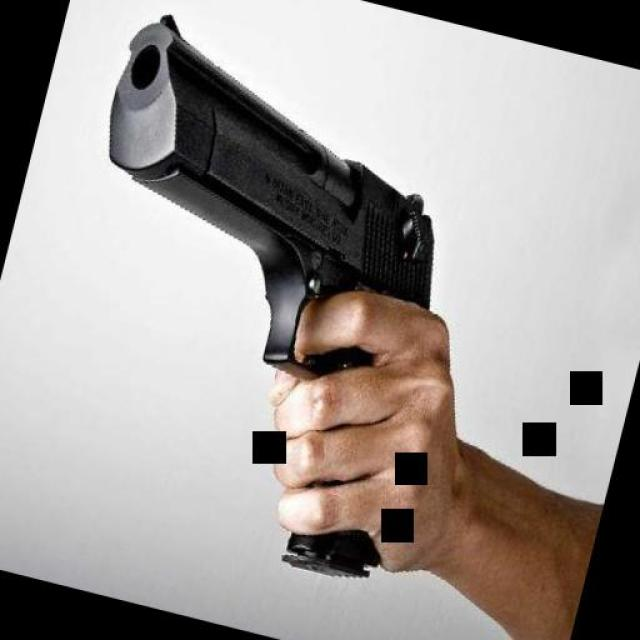gun: (11, 2, 502, 586)
